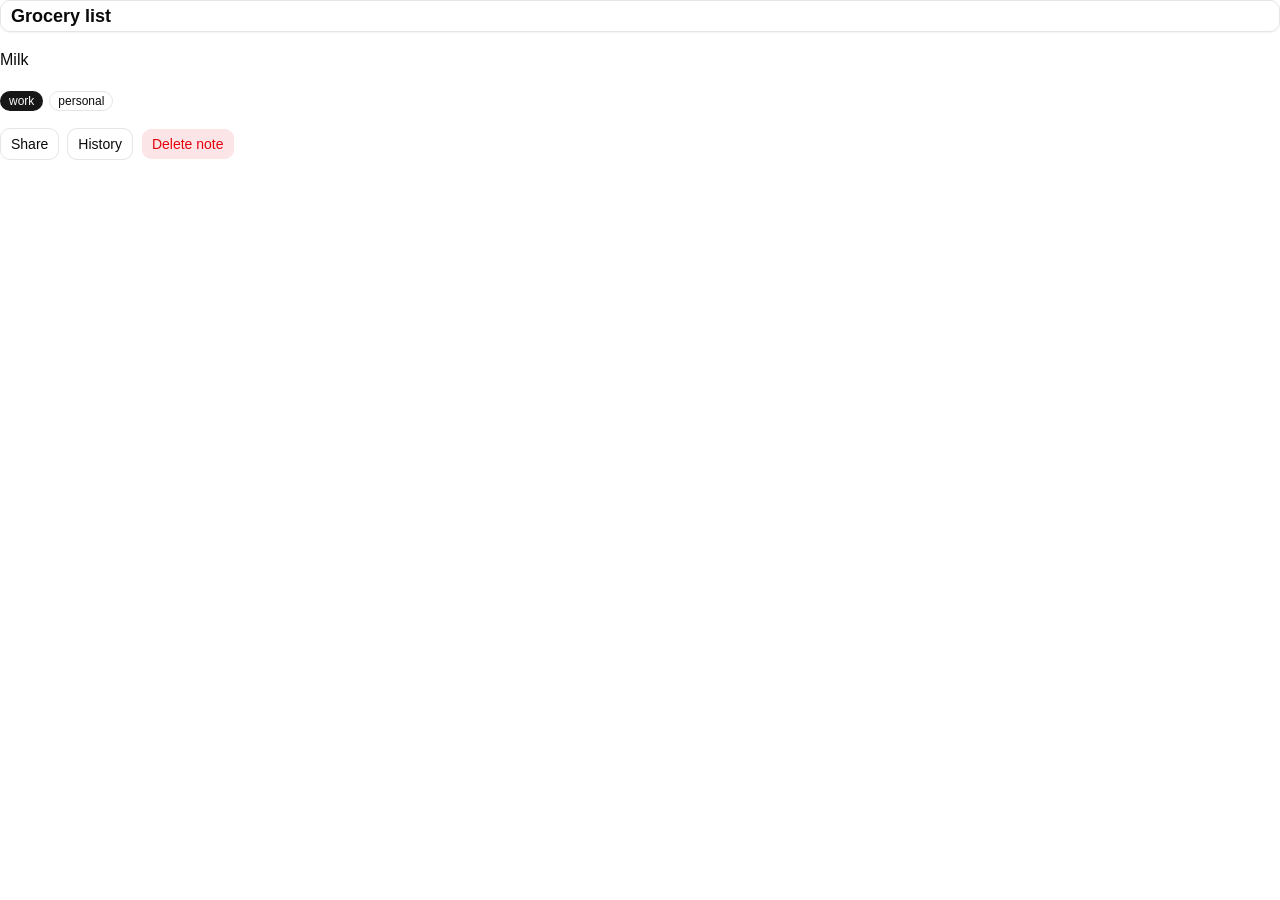
Test: NoteEditorPage history entry point and restore › opens the History drawer for the loaded note
expect the field named "title" holds "Grocery list": met, box [0, 0, 1279, 32]
Step 1. Click the button "History" → (100, 144), box [67, 128, 133, 160]
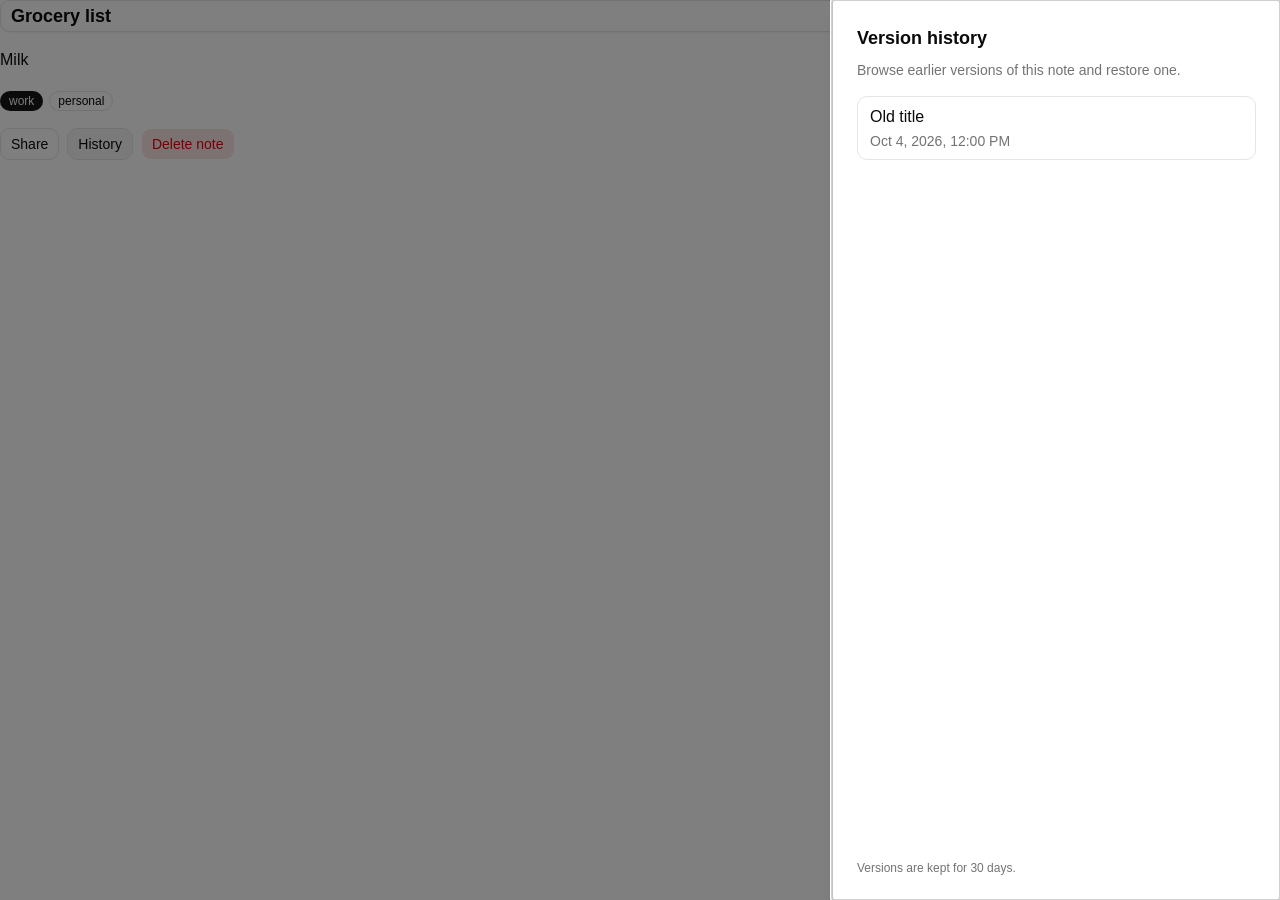
expect the dialog "Version history" is shown: met, box [832, 0, 1279, 899]
